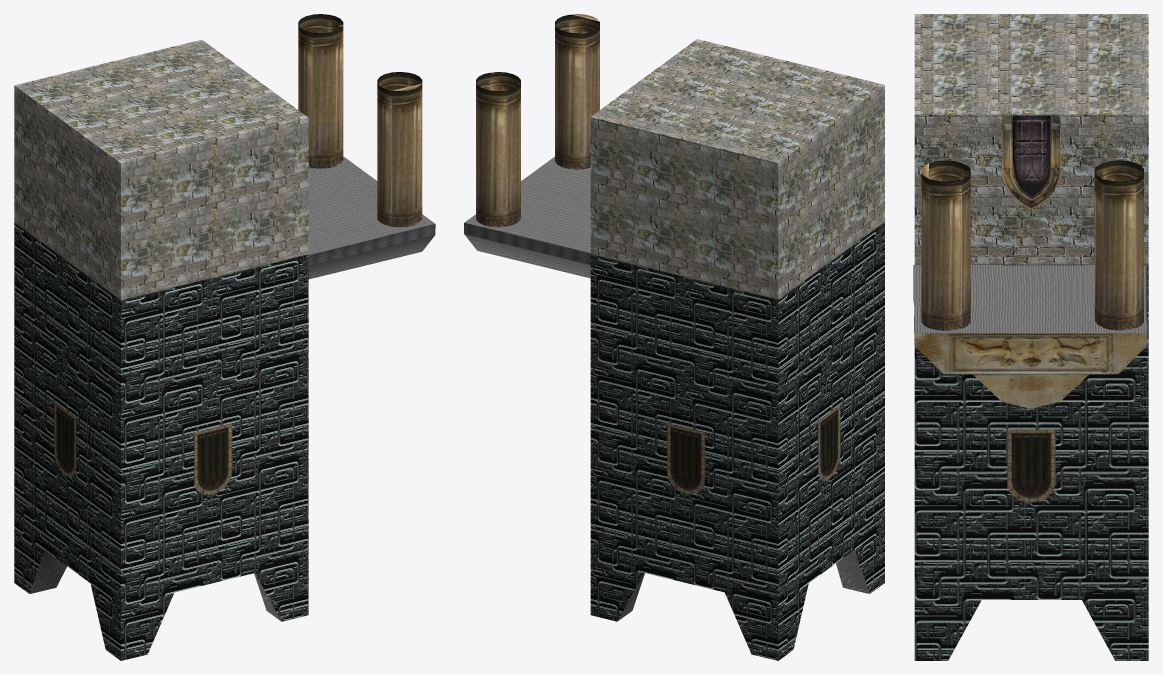
Rendered from RomanTowerA.FBX.
The picture shows the model from 3 angles, left to right: view 1: azimuth 30°, elevation 25°; view 2: azimuth 150°, elevation 25°; view 3: azimuth 270°, elevation 25°; orthographic projection. The views are drawn at different scales.
Parts seen in each view (by area): view 1: Cylinder002; view 2: Cylinder002; view 3: Cylinder002.
Part boxes in pixels (x1,y1,x2,y2): Cylinder002: (14, 14, 435, 660); Cylinder002: (464, 14, 884, 660); Cylinder002: (913, 14, 1148, 660).
Size of the model in its own units: 84.29 by 49.77 by 127.
Materials: 7 (6 with a texture image).
